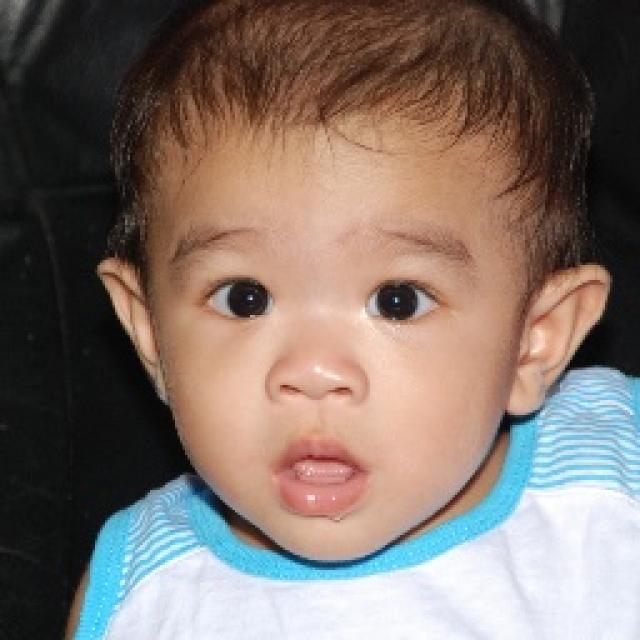earlobe: (504, 364, 545, 416), (138, 354, 172, 402)
eye: (362, 279, 440, 323), (204, 278, 278, 323)
nose: (263, 378, 369, 431)
wholeear: (504, 262, 610, 414), (97, 258, 170, 402)
